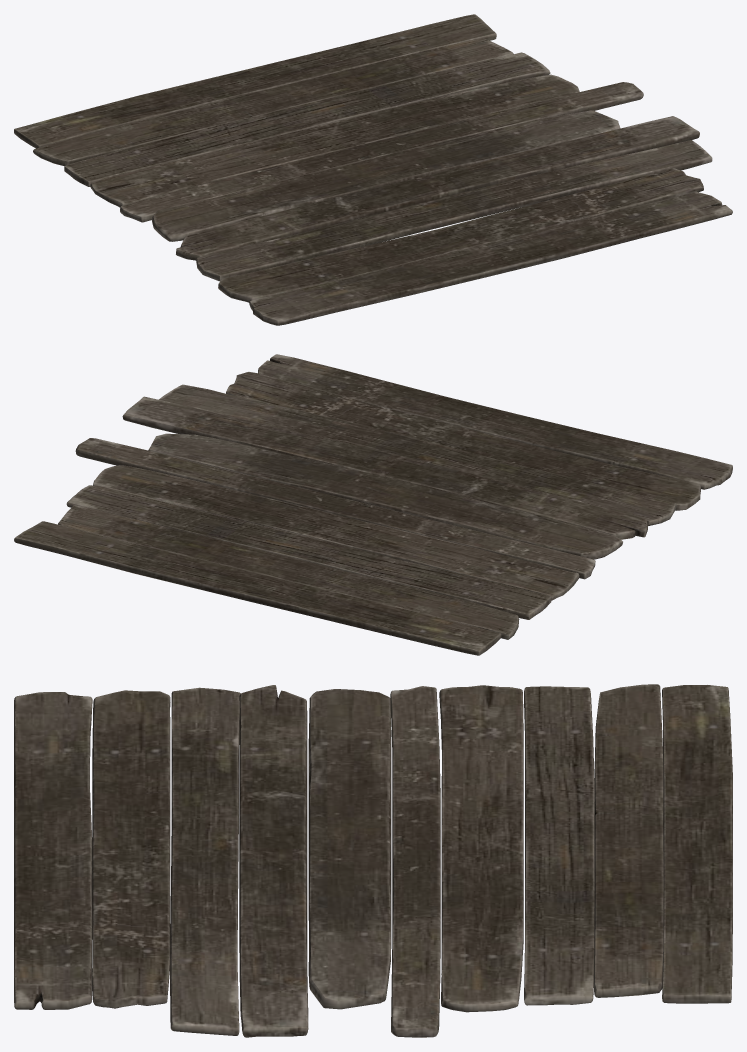
The picture shows the model from 3 angles, top to bottom: view 1: azimuth 30°, elevation 25°; view 2: azimuth 150°, elevation 25°; view 3: azimuth 270°, elevation 25°; orthographic projection. The views are drawn at different scales.
Parts seen in each view (by area): view 1: modular_wooden_pier_kit__a_lod0; view 2: modular_wooden_pier_kit__a_lod0; view 3: modular_wooden_pier_kit__a_lod0.
Boxes of the visible parts, x1,y1,x2,y2 form: modular_wooden_pier_kit__a_lod0: [14, 14, 732, 325]; modular_wooden_pier_kit__a_lod0: [14, 354, 732, 655]; modular_wooden_pier_kit__a_lod0: [14, 684, 732, 1037].
Bounding box in the file's own units: 2.52 × 0.0798 × 2.2.
1 material, 1 textured.
